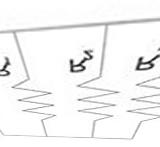resistor: (76, 66, 122, 125), (11, 70, 56, 123)
